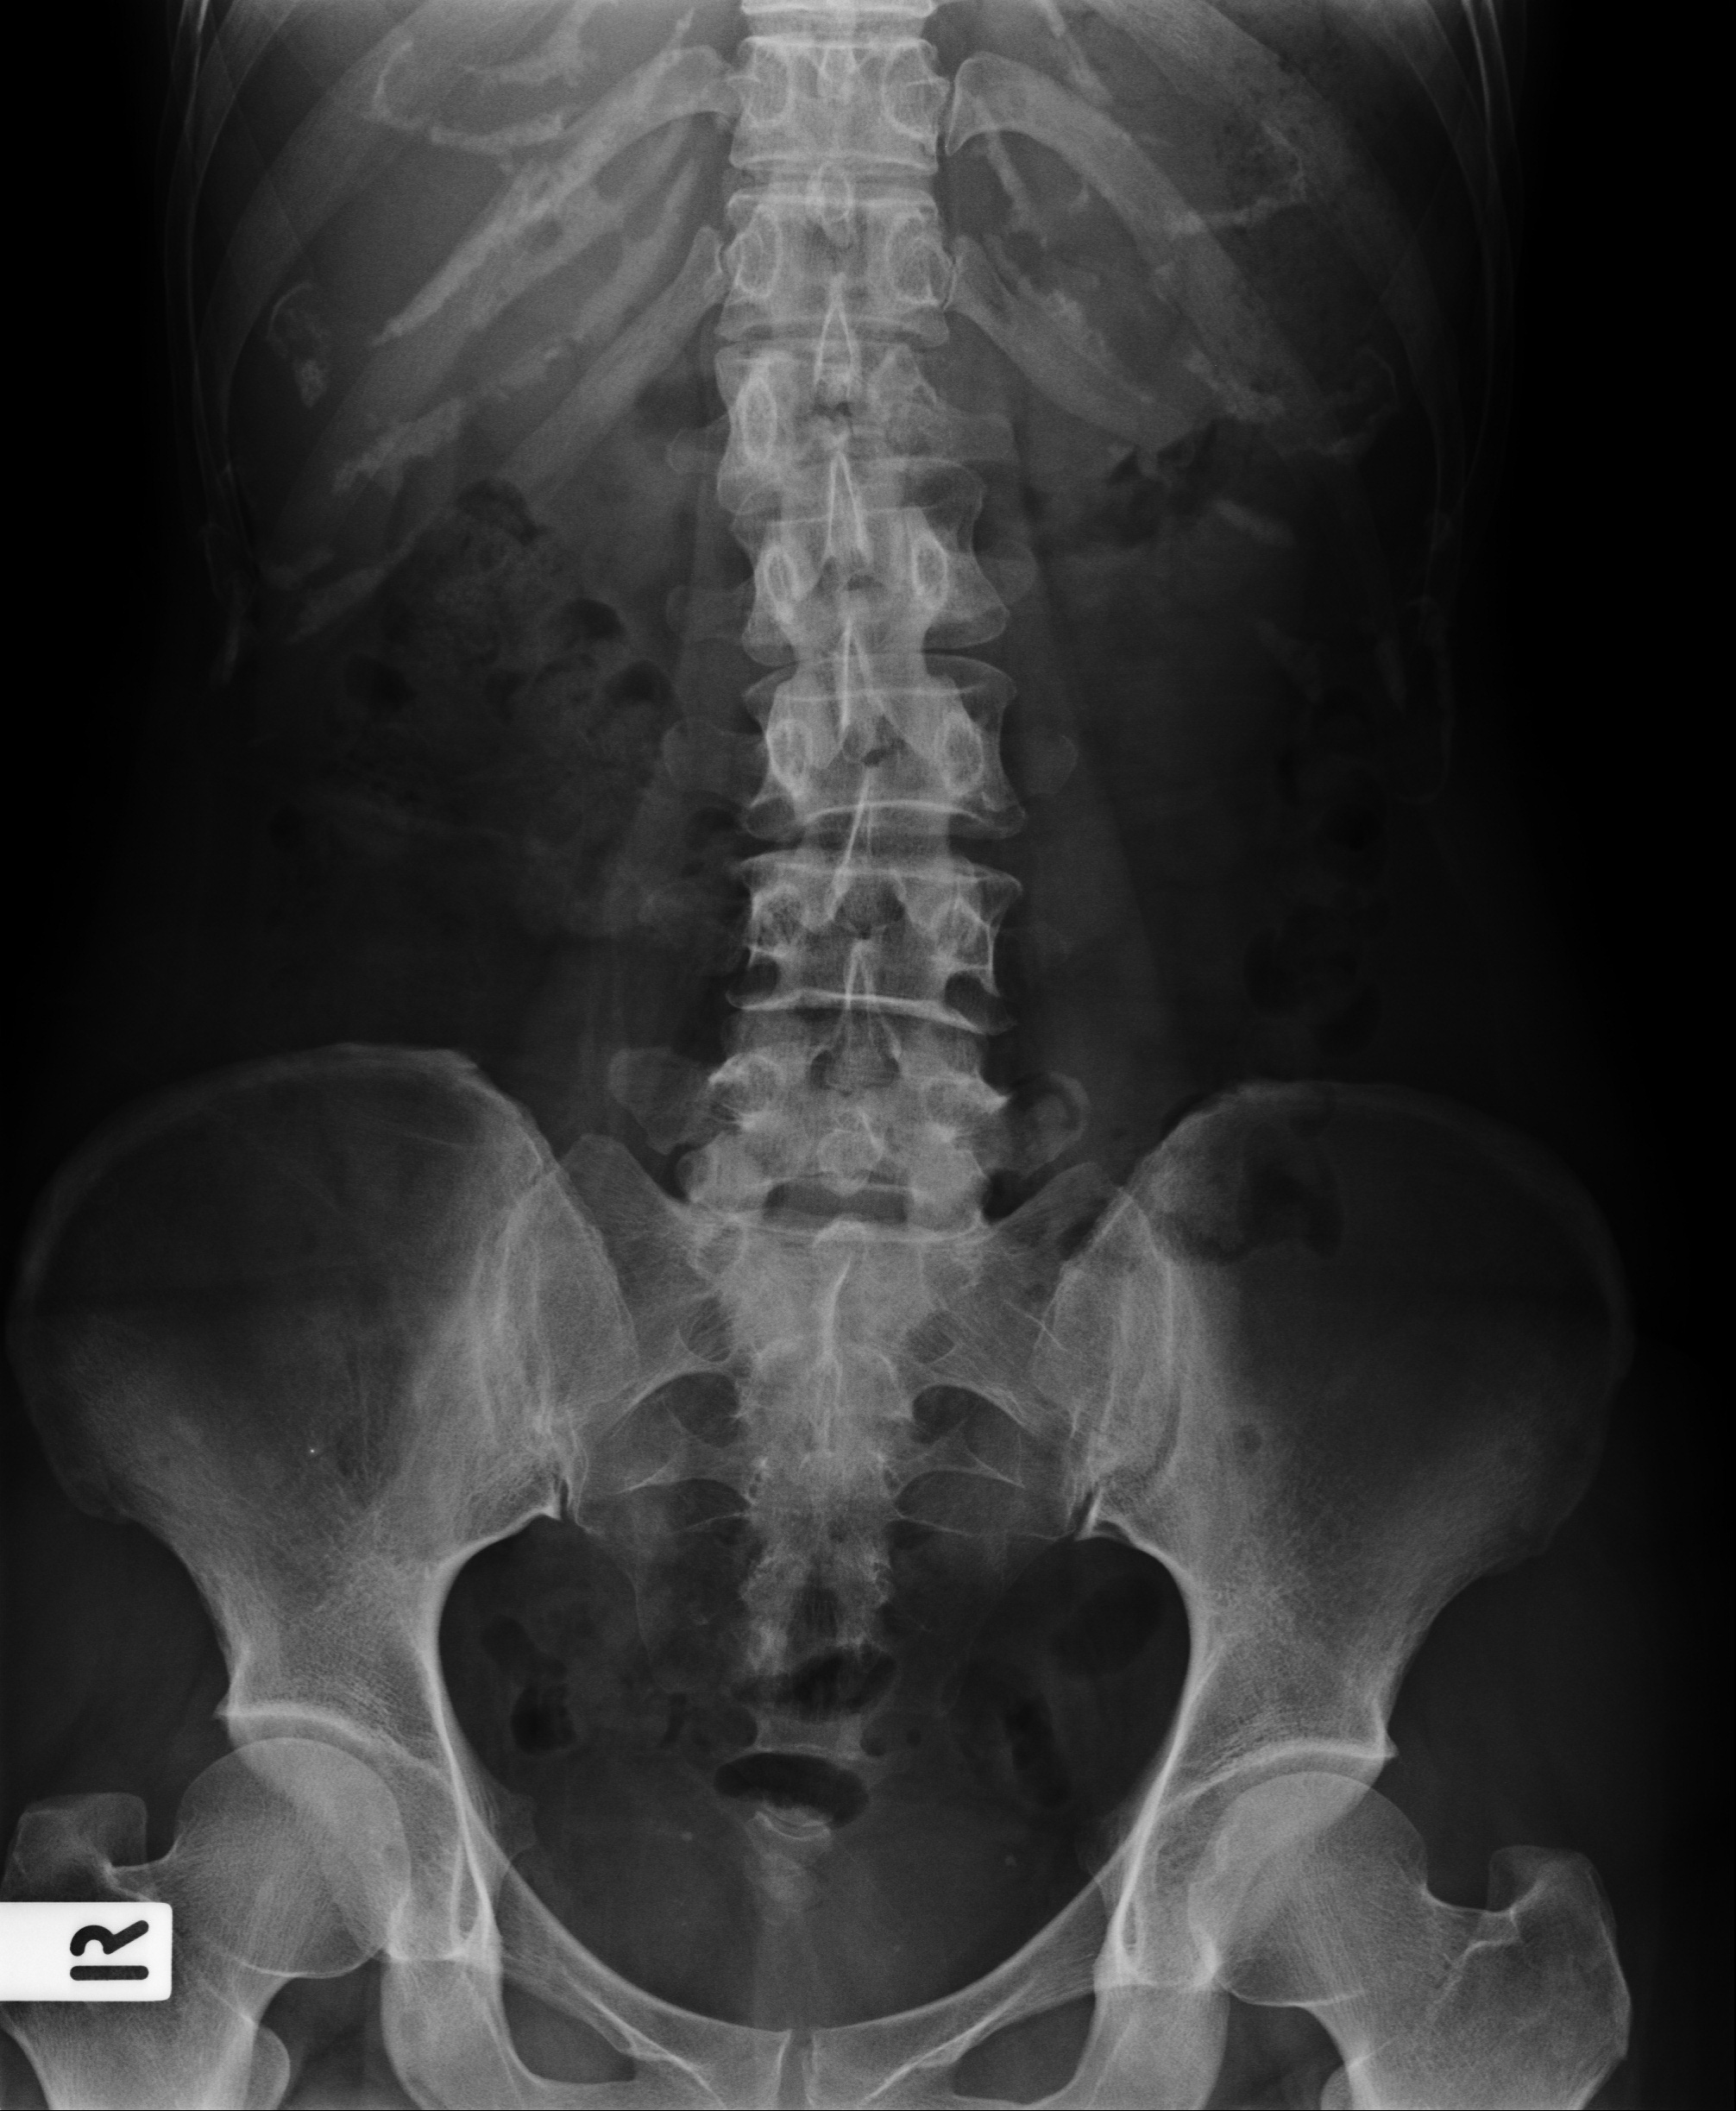lumbar scoliosis: (691, 14, 1017, 1362)
